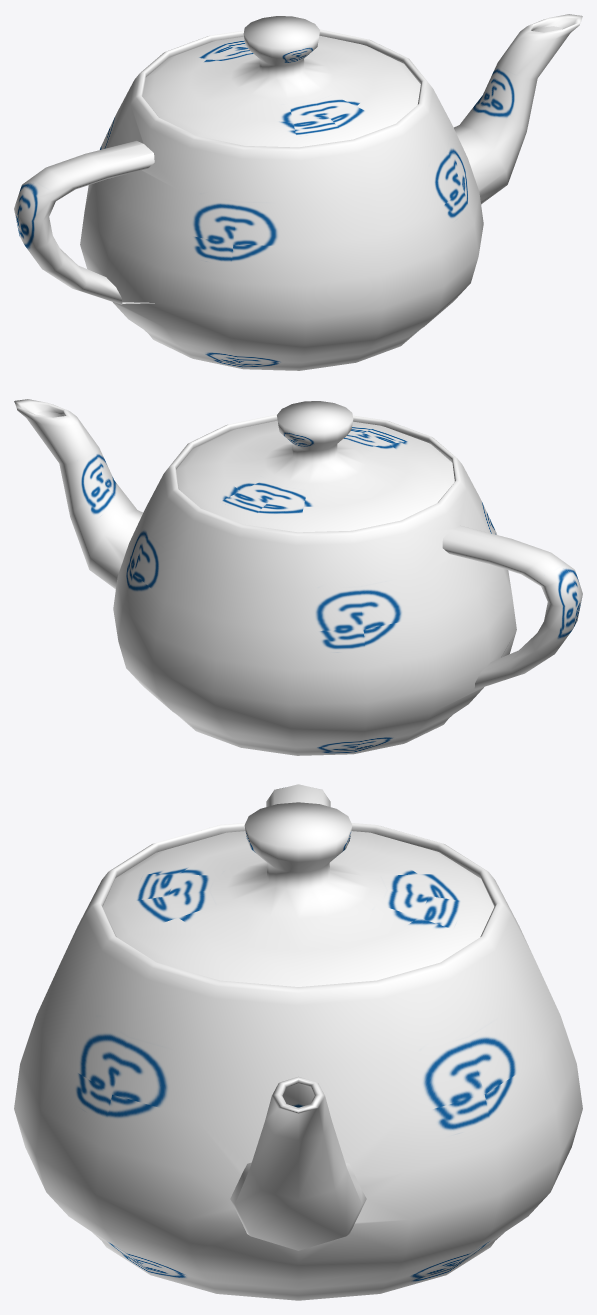
The model's file is tpot.fbx.
3 renders of one model, top to bottom at view 1: azimuth 30°, elevation 25°; view 2: azimuth 150°, elevation 25°; view 3: azimuth 270°, elevation 25°, orthographic. The views are drawn at different scales.
Visible parts, largest first — view 1: tpot_convexHull; view 2: tpot_convexHull; view 3: tpot_convexHull.
Boxes of the visible parts, x1,y1,x2,y2 form: tpot_convexHull: (14,14,582,370); tpot_convexHull: (14,399,582,755); tpot_convexHull: (14,784,582,1300).
Bounding box in the file's own units: 163 × 102 × 80.01.
1 material, 1 textured.
